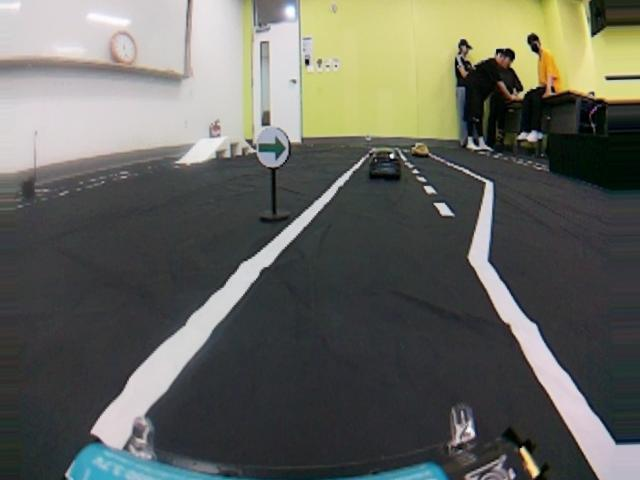car: (369, 148, 405, 186), (409, 143, 428, 155)
sign_right: (249, 125, 292, 168)
straight: (76, 261, 640, 479)
